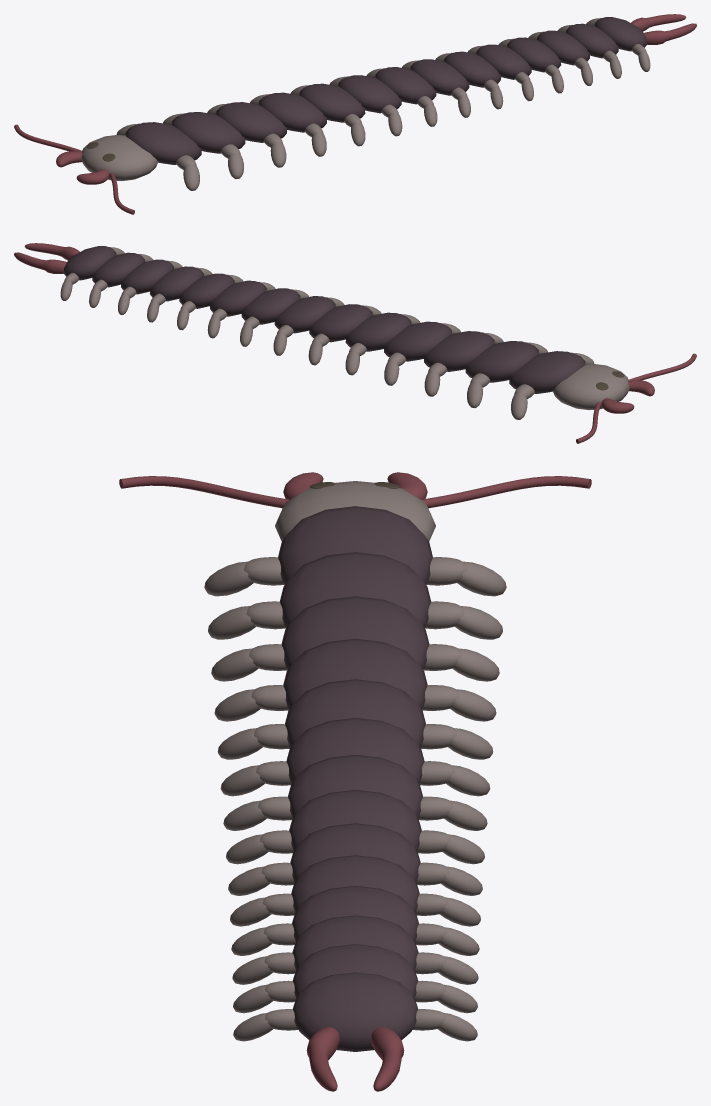
File: Centipede.fbx
The picture shows the model from 3 angles, top to bottom: view 1: azimuth 30°, elevation 25°; view 2: azimuth 150°, elevation 25°; view 3: azimuth 270°, elevation 25°; orthographic projection. The views are drawn at different scales.
Parts seen in each view (by area): view 1: Millipede; view 2: Millipede; view 3: Millipede.
Boxes of the visible parts, box(x1,y1,x2,y2) form: Millipede: box(14, 14, 696, 214); Millipede: box(14, 243, 696, 443); Millipede: box(119, 472, 591, 1091).
Size of the model in its own units: 1475 by 82.13 by 484.
